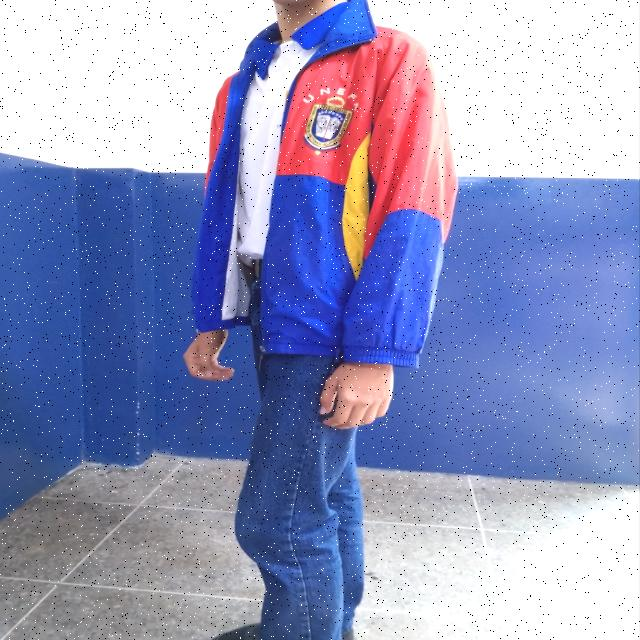chaqueta_unefa: (189, 0, 460, 370)
pantalon_oscuro: (234, 359, 368, 640)
